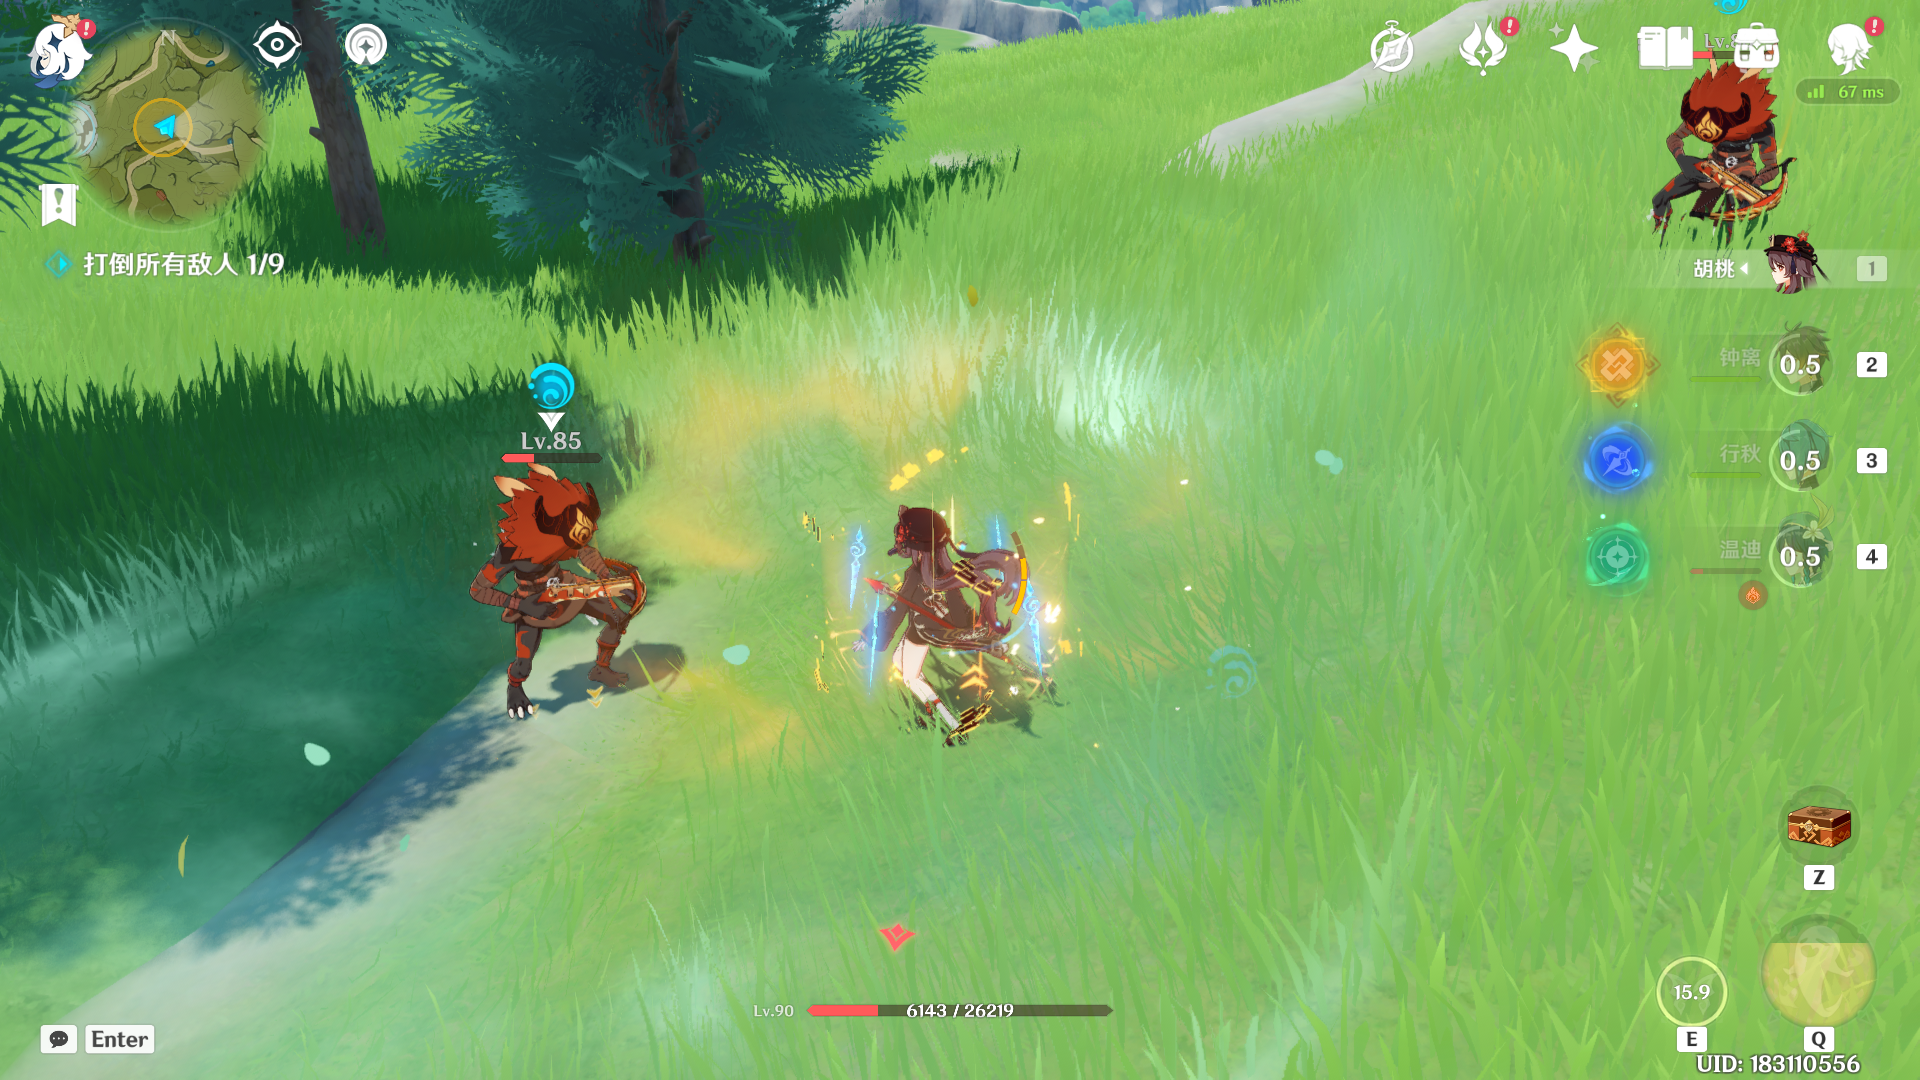character: (808, 477, 1087, 778)
hili: (472, 433, 684, 732), (1644, 41, 1801, 257)
